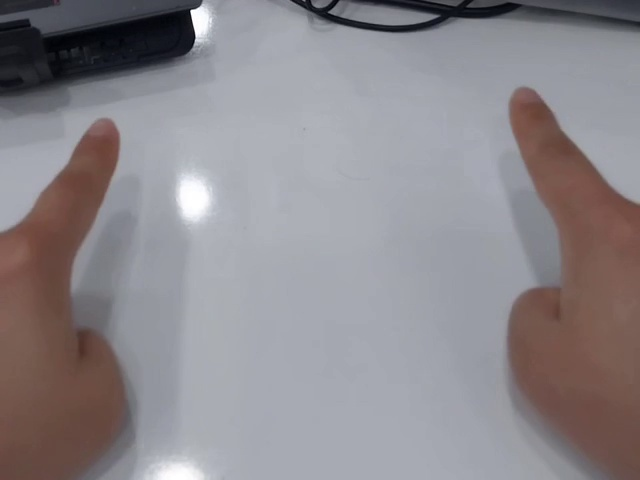fingers: (74, 116, 121, 171), (508, 85, 554, 129)
